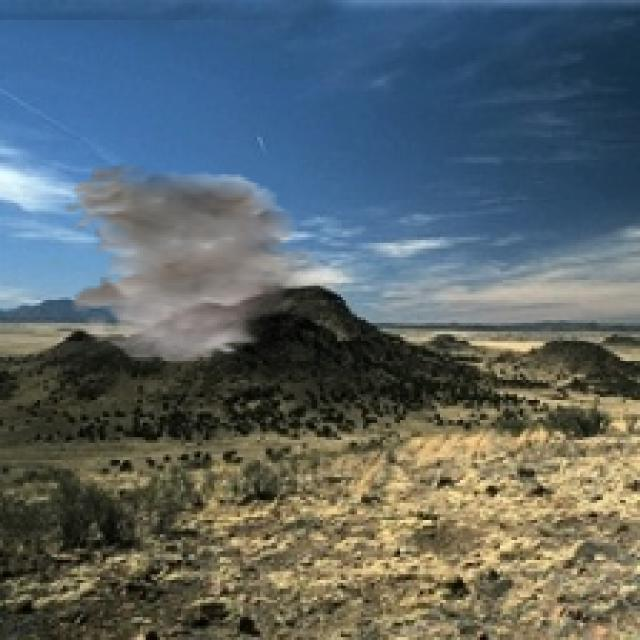smoke: (63, 163, 328, 363)
